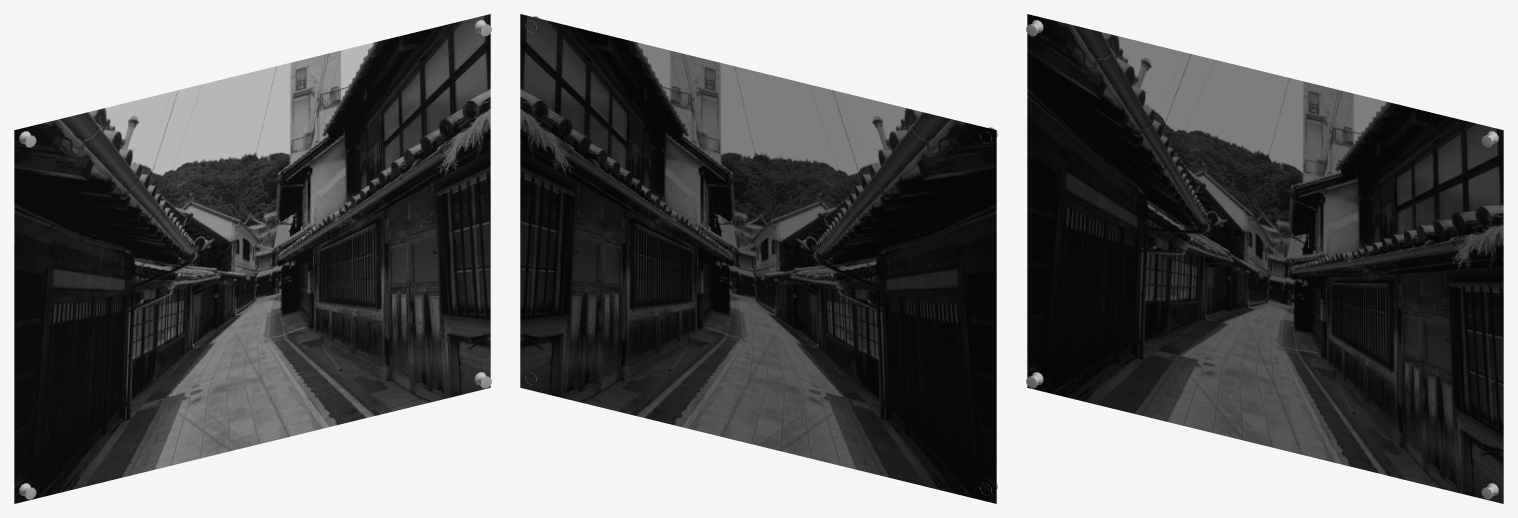
File: Poster_02.FBX
The picture shows the model from 3 angles, left to right: view 1: azimuth 30°, elevation 25°; view 2: azimuth 150°, elevation 25°; view 3: azimuth 330°, elevation 25°; orthographic projection.
Parts seen in each view (by area): view 1: Poster_02; view 2: Poster_02; view 3: Poster_02.
Part boxes in pixels (<box>): Poster_02: <box>14,14,491,503</box>; Poster_02: <box>520,14,997,503</box>; Poster_02: <box>1026,14,1503,503</box>.
Size of the model in its own units: 40 by 30 by 0.942.
